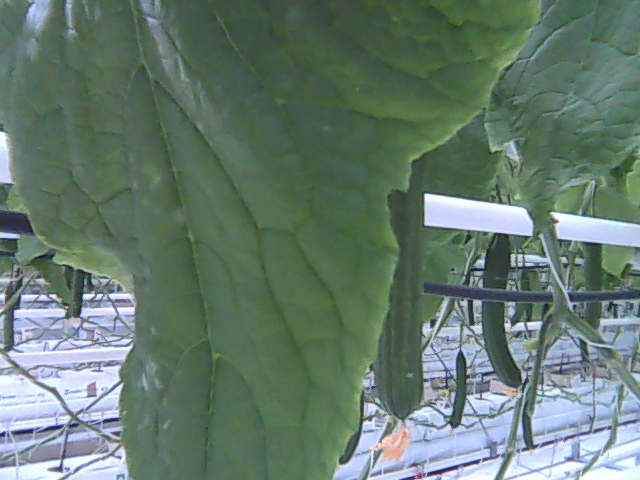concombre: (371, 149, 427, 462)
